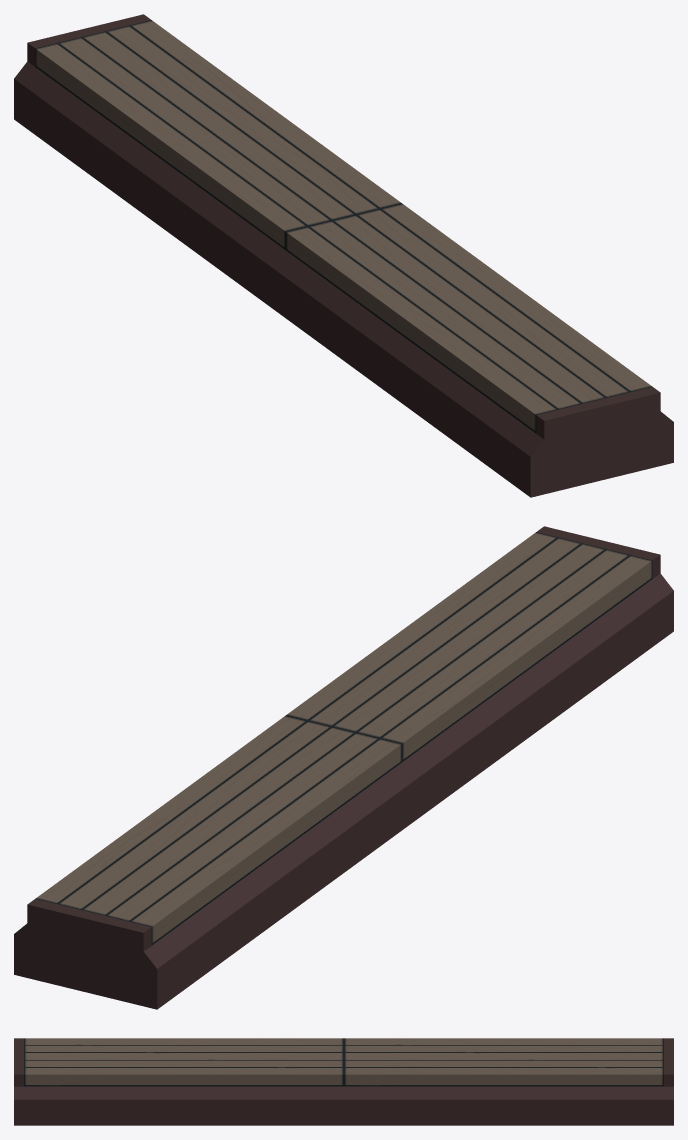
File: SW_ENV_EL_TrackBase_Walkway_Central_10m.fbx
3 renders of one model, top to bottom at view 1: azimuth 30°, elevation 25°; view 2: azimuth 150°, elevation 25°; view 3: azimuth 270°, elevation 25°, orthographic. The views are drawn at different scales.
Visible parts, largest first — view 1: SW_ENV_EL_TrackBase_Walkway_Central_10m; view 2: SW_ENV_EL_TrackBase_Walkway_Central_10m; view 3: SW_ENV_EL_TrackBase_Walkway_Central_10m.
Part boxes in pixels (x1,y1,x2,y2): SW_ENV_EL_TrackBase_Walkway_Central_10m: (14,14,673,497); SW_ENV_EL_TrackBase_Walkway_Central_10m: (14,526,673,1009); SW_ENV_EL_TrackBase_Walkway_Central_10m: (14,1038,673,1125).
Size of the model in its own units: 160 by 78.5 by 1000.
